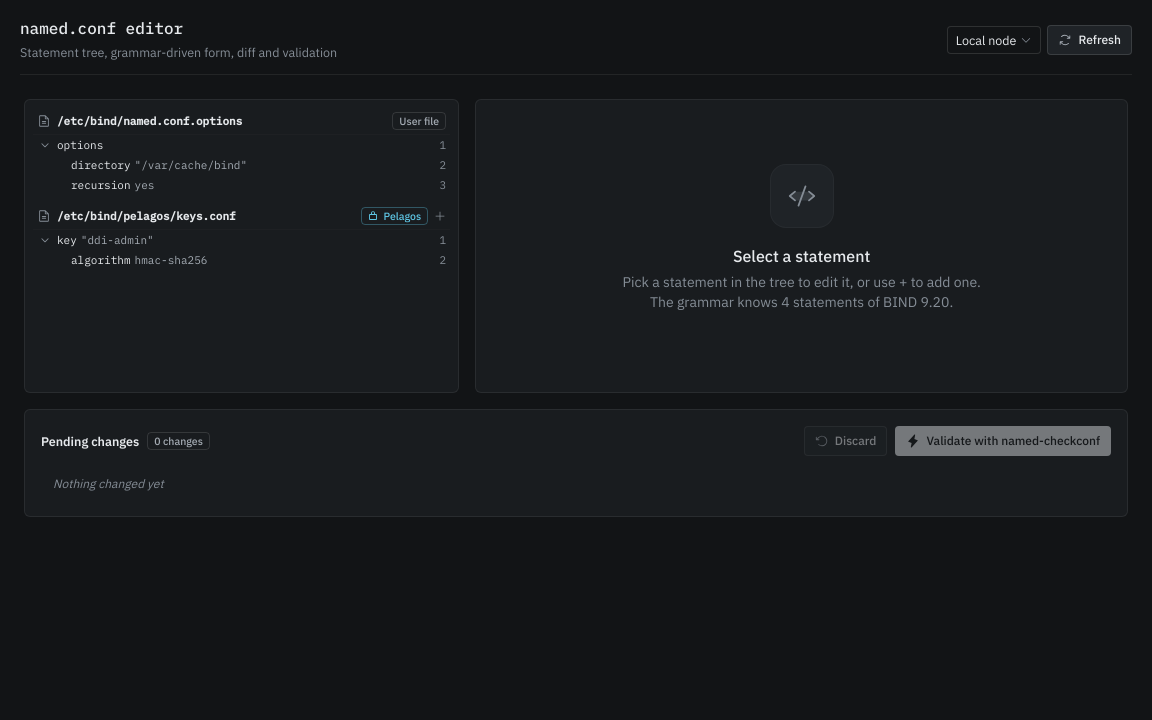
Test: BindEditorPage › keeps zones, keys and ACLs of managed files on their own screens
The image size is (1152, 720).
Step 1. Click the element with test id "bind-statement" showing "key \"ddi-admin\" 1" → click(117, 240), box [33,230,450,250]
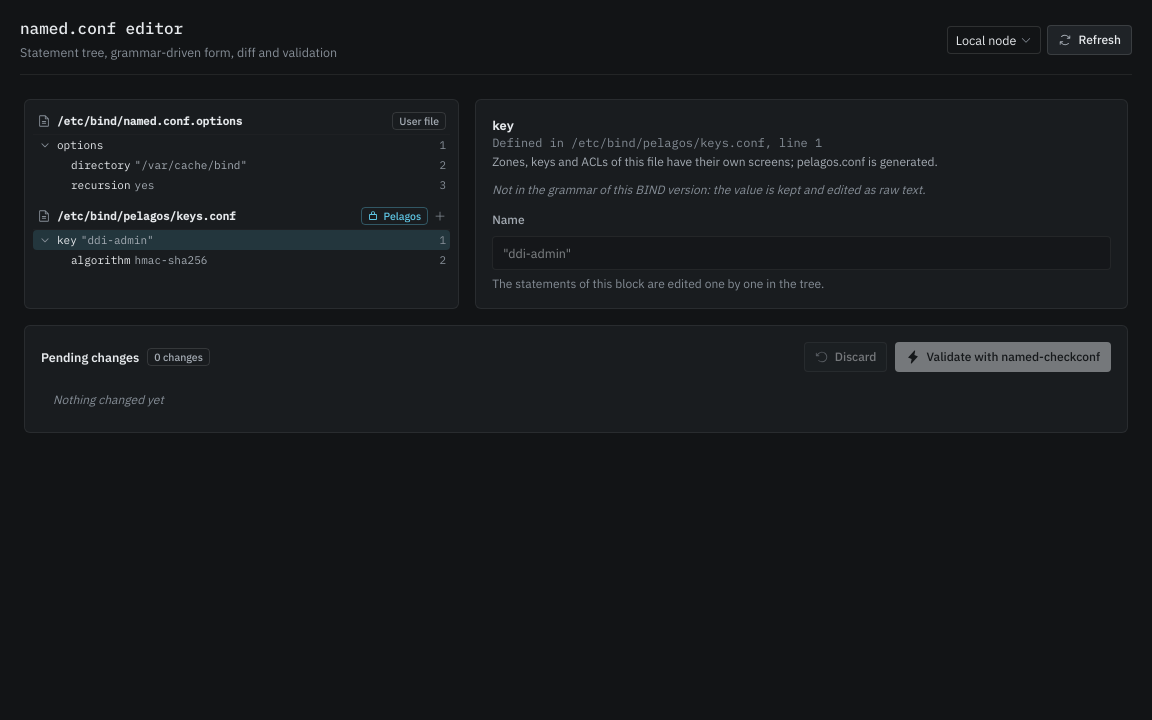
Check: the element with test id "bind-form" shows "have their own screens", box [492,154,938,169]
